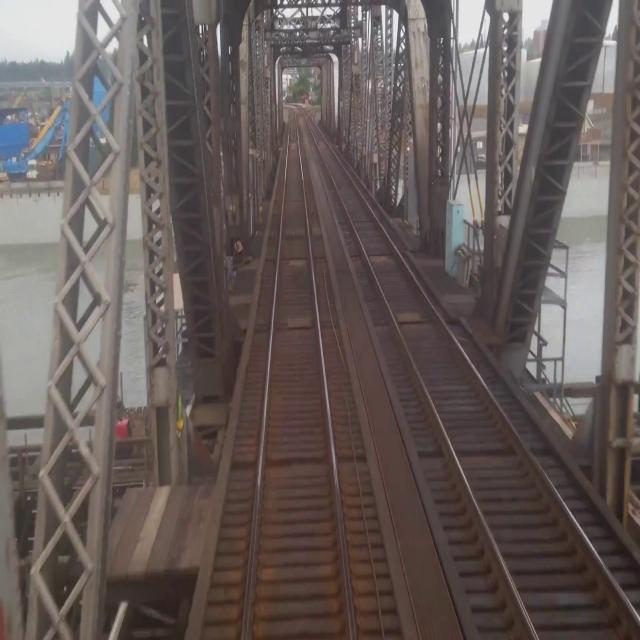rail-track: (296, 105, 640, 639), (245, 107, 351, 639), (309, 107, 320, 118)
